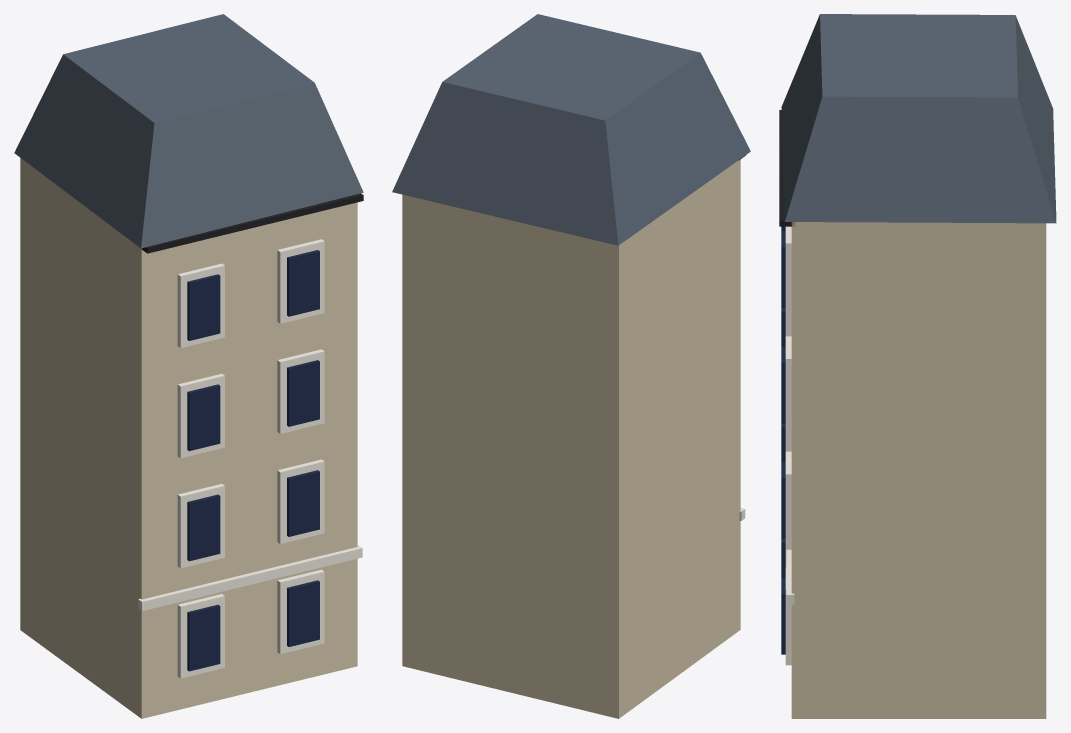
The model's file is kamienica_paryz_1.glb.
3 views of the same model, side by side, from view 1: azimuth 30°, elevation 25°; view 2: azimuth 150°, elevation 25°; view 3: azimuth 270°, elevation 25° (orthographic). The views are drawn at different scales.
Visible parts, largest first — view 1: kamienica_paryz_1; view 2: kamienica_paryz_1; view 3: kamienica_paryz_1.
Boxes of the visible parts, bbox=[...] form: kamienica_paryz_1: bbox=[14, 14, 363, 718]; kamienica_paryz_1: bbox=[392, 14, 750, 718]; kamienica_paryz_1: bbox=[779, 14, 1056, 718].
Size of the model in its own units: 2.05 by 5 by 2.07.
